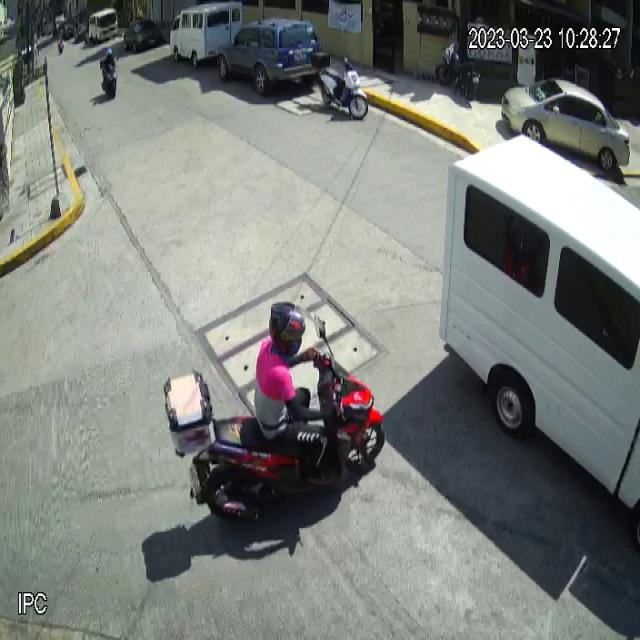Car: (502, 76, 630, 174), (215, 18, 323, 95)
Motorcycle: (162, 318, 387, 540), (315, 56, 369, 121)
Van: (169, 1, 244, 68)
